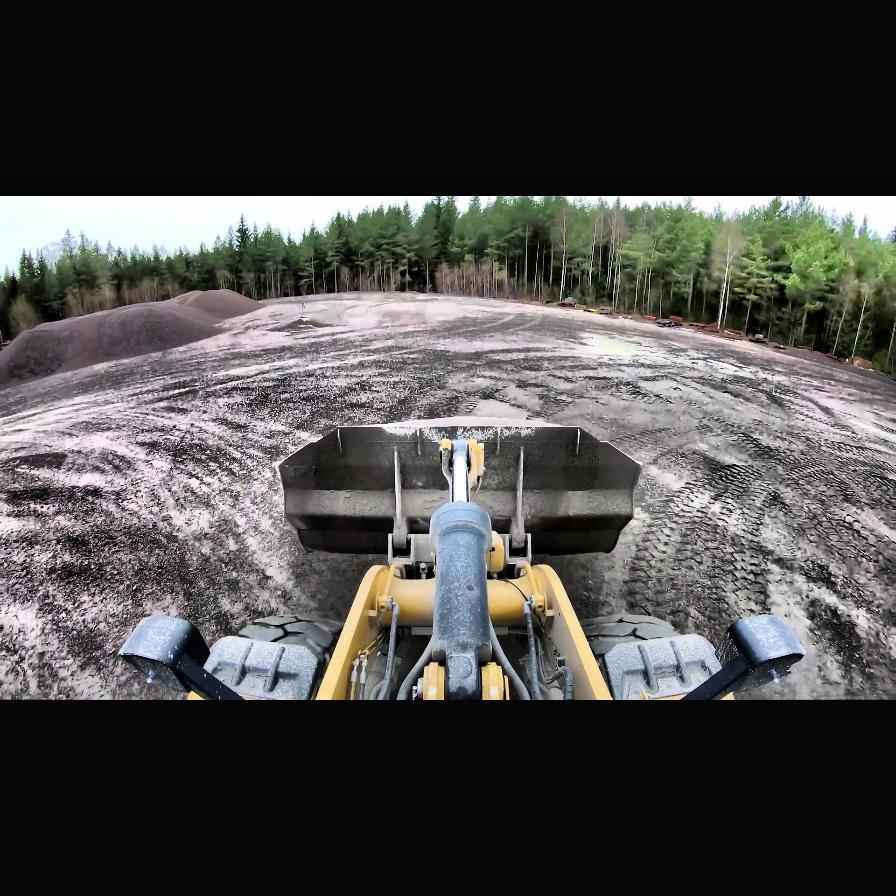anchor: (440, 436, 484, 500)
pile of gravel: (1, 290, 262, 396), (168, 288, 262, 321)
